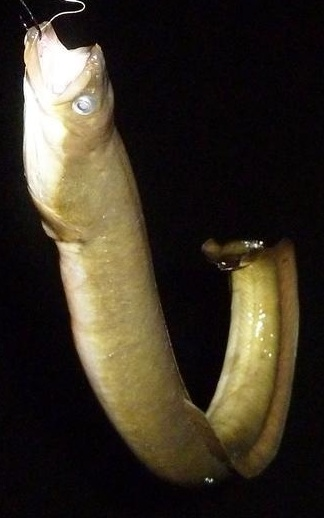Anguilla anguilla: (20, 20, 304, 498)
